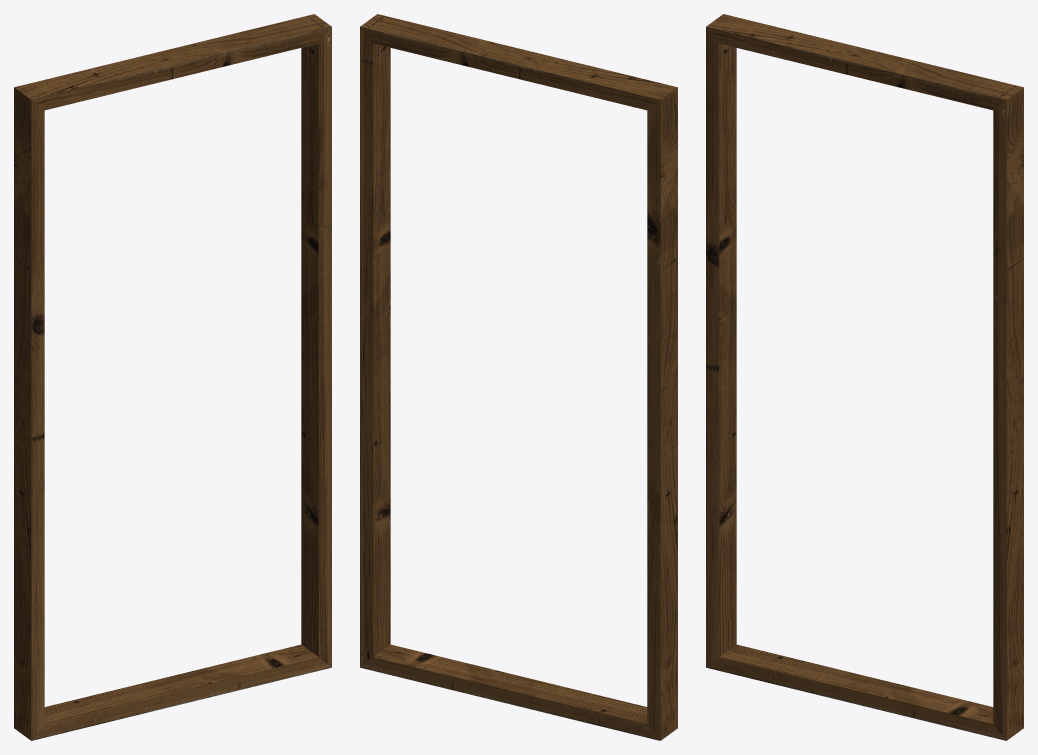
File: cadre porte.fbx
3 renders of one model, left to right at view 1: azimuth 30°, elevation 25°; view 2: azimuth 150°, elevation 25°; view 3: azimuth 330°, elevation 25°, orthographic.
Visible parts, largest first — view 1: Cube; view 2: Cube; view 3: Cube.
Boxes of the visible parts, left/top/right/bottom form: Cube: left=14, top=14, right=331, bottom=740; Cube: left=360, top=14, right=677, bottom=740; Cube: left=706, top=14, right=1023, bottom=740.
Bounding box in the file's own units: 100 × 204 × 10.
